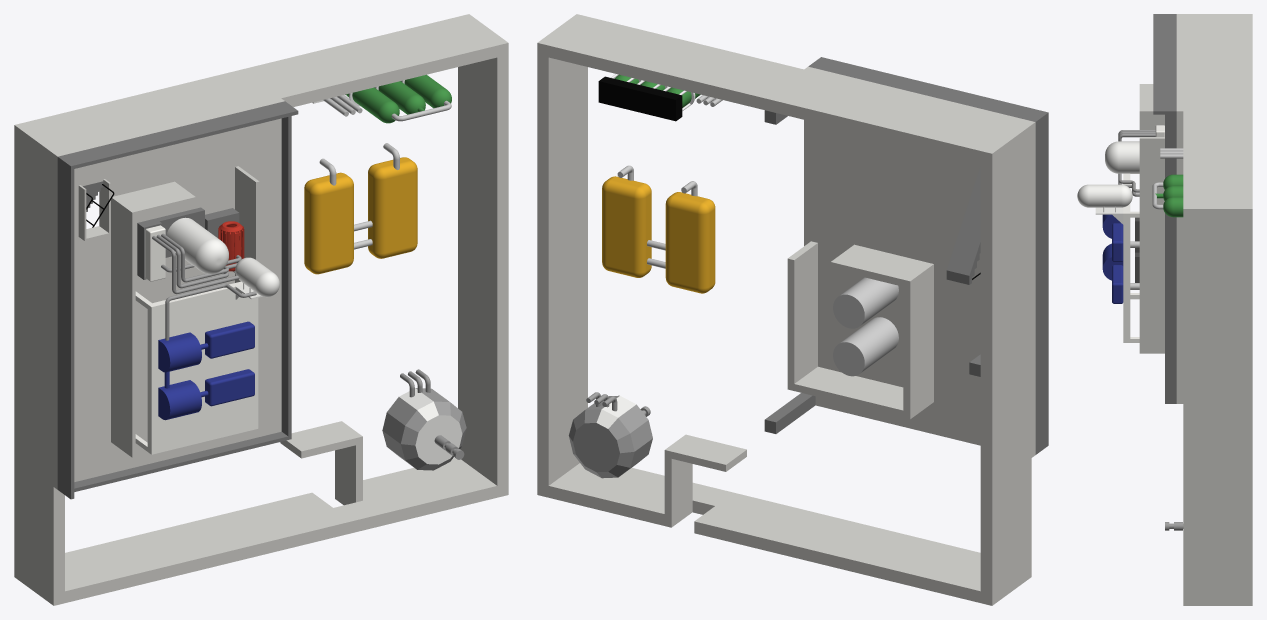
File: reactor-room.fbx
3 views of the same model, side by side, from view 1: azimuth 30°, elevation 25°; view 2: azimuth 150°, elevation 25°; view 3: azimuth 270°, elevation 25° (orthographic). The views are drawn at different scales.
Parts seen in each view (by area): view 1: walls_boratedConcrete, MezzanineFloor_boratedConcrete, MezzanineWalls_concrete, MezzanineOverhead_stainlessSteel, MezzanineShielding_boratedConcrete, tankSet1_stainlessSteel, MezzanineOverheadTanks_stainlessSteel, tankSet2_stainlessSteel, MezzaninePipework_stainlessSteel, MezzanineTankSet3_stainlessSteel, MezzanineTankSet1_stainlessSteel, tankSet3Tank_stainlessSteel_1 (+5 smaller); view 2: walls_boratedConcrete, MezzanineFloor_boratedConcrete, TankShielding_boratedConcrete, tankSet1_stainlessSteel, MezzanineWalls_concrete, tankSet2_stainlessSteel, tankSet4_stainlessSteel, tankSetPlinth_concrete, Stairs_aluminium, MezzanineSupports_concrete; view 3: walls_boratedConcrete, MezzanineShielding_boratedConcrete, MezzanineWalls_concrete, MezzanineFloor_boratedConcrete, MezzanineOverheadTanks_stainlessSteel, MezzanineTankSet1_stainlessSteel, MezzanineOverhead_stainlessSteel, MezzanineTankSet3_stainlessSteel, MezzaninePipework_stainlessSteel, tankSet3Tank_stainlessSteel_3, tankSet3Tank_stainlessSteel_2, verticalPipeSet_stainlessSteel.
Boxes of the visible parts, bbox=[...] form: walls_boratedConcrete: bbox=[14, 14, 508, 605]; MezzanineFloor_boratedConcrete: bbox=[53, 98, 284, 489]; MezzanineWalls_concrete: bbox=[57, 101, 298, 499]; MezzanineOverhead_stainlessSteel: bbox=[135, 271, 258, 454]; MezzanineShielding_boratedConcrete: bbox=[111, 166, 259, 457]; tankSet1_stainlessSteel: bbox=[304, 157, 417, 274]; MezzanineOverheadTanks_stainlessSteel: bbox=[158, 321, 254, 420]; tankSet2_stainlessSteel: bbox=[382, 369, 466, 470]; MezzaninePipework_stainlessSteel: bbox=[152, 233, 256, 340]; MezzanineTankSet3_stainlessSteel: bbox=[166, 217, 228, 274]; MezzanineTankSet1_stainlessSteel: bbox=[235, 257, 279, 299]; tankSet3Tank_stainlessSteel_1: bbox=[346, 87, 399, 123]; walls_boratedConcrete: bbox=[537, 14, 1031, 605]; MezzanineFloor_boratedConcrete: bbox=[804, 66, 1035, 457]; TankShielding_boratedConcrete: bbox=[787, 241, 933, 419]; tankSet1_stainlessSteel: bbox=[602, 176, 715, 293]; MezzanineWalls_concrete: bbox=[808, 57, 1048, 454]; tankSet2_stainlessSteel: bbox=[568, 392, 652, 478]; tankSet4_stainlessSteel: bbox=[833, 277, 898, 376]; tankSetPlinth_concrete: bbox=[598, 76, 682, 121]; Stairs_aluminium: bbox=[946, 167, 980, 284]; MezzanineSupports_concrete: bbox=[764, 110, 980, 433]; walls_boratedConcrete: bbox=[1183, 14, 1252, 605]; MezzanineShielding_boratedConcrete: bbox=[1139, 84, 1164, 353]; MezzanineWalls_concrete: bbox=[1153, 14, 1176, 403]; MezzanineFloor_boratedConcrete: bbox=[1176, 14, 1183, 403]; MezzanineOverheadTanks_stainlessSteel: bbox=[1102, 214, 1123, 303]; MezzanineTankSet1_stainlessSteel: bbox=[1077, 184, 1132, 224]; MezzanineOverhead_stainlessSteel: bbox=[1123, 173, 1139, 342]; MezzanineTankSet3_stainlessSteel: bbox=[1105, 141, 1139, 173]; MezzaninePipework_stainlessSteel: bbox=[1118, 130, 1155, 196]; tankSet3Tank_stainlessSteel_3: bbox=[1163, 197, 1183, 217]; tankSet3Tank_stainlessSteel_2: bbox=[1155, 185, 1183, 200]; verticalPipeSet_stainlessSteel: bbox=[1160, 148, 1183, 158].
Bounding box in the file's own units: 20000 × 19000 × 7600.
